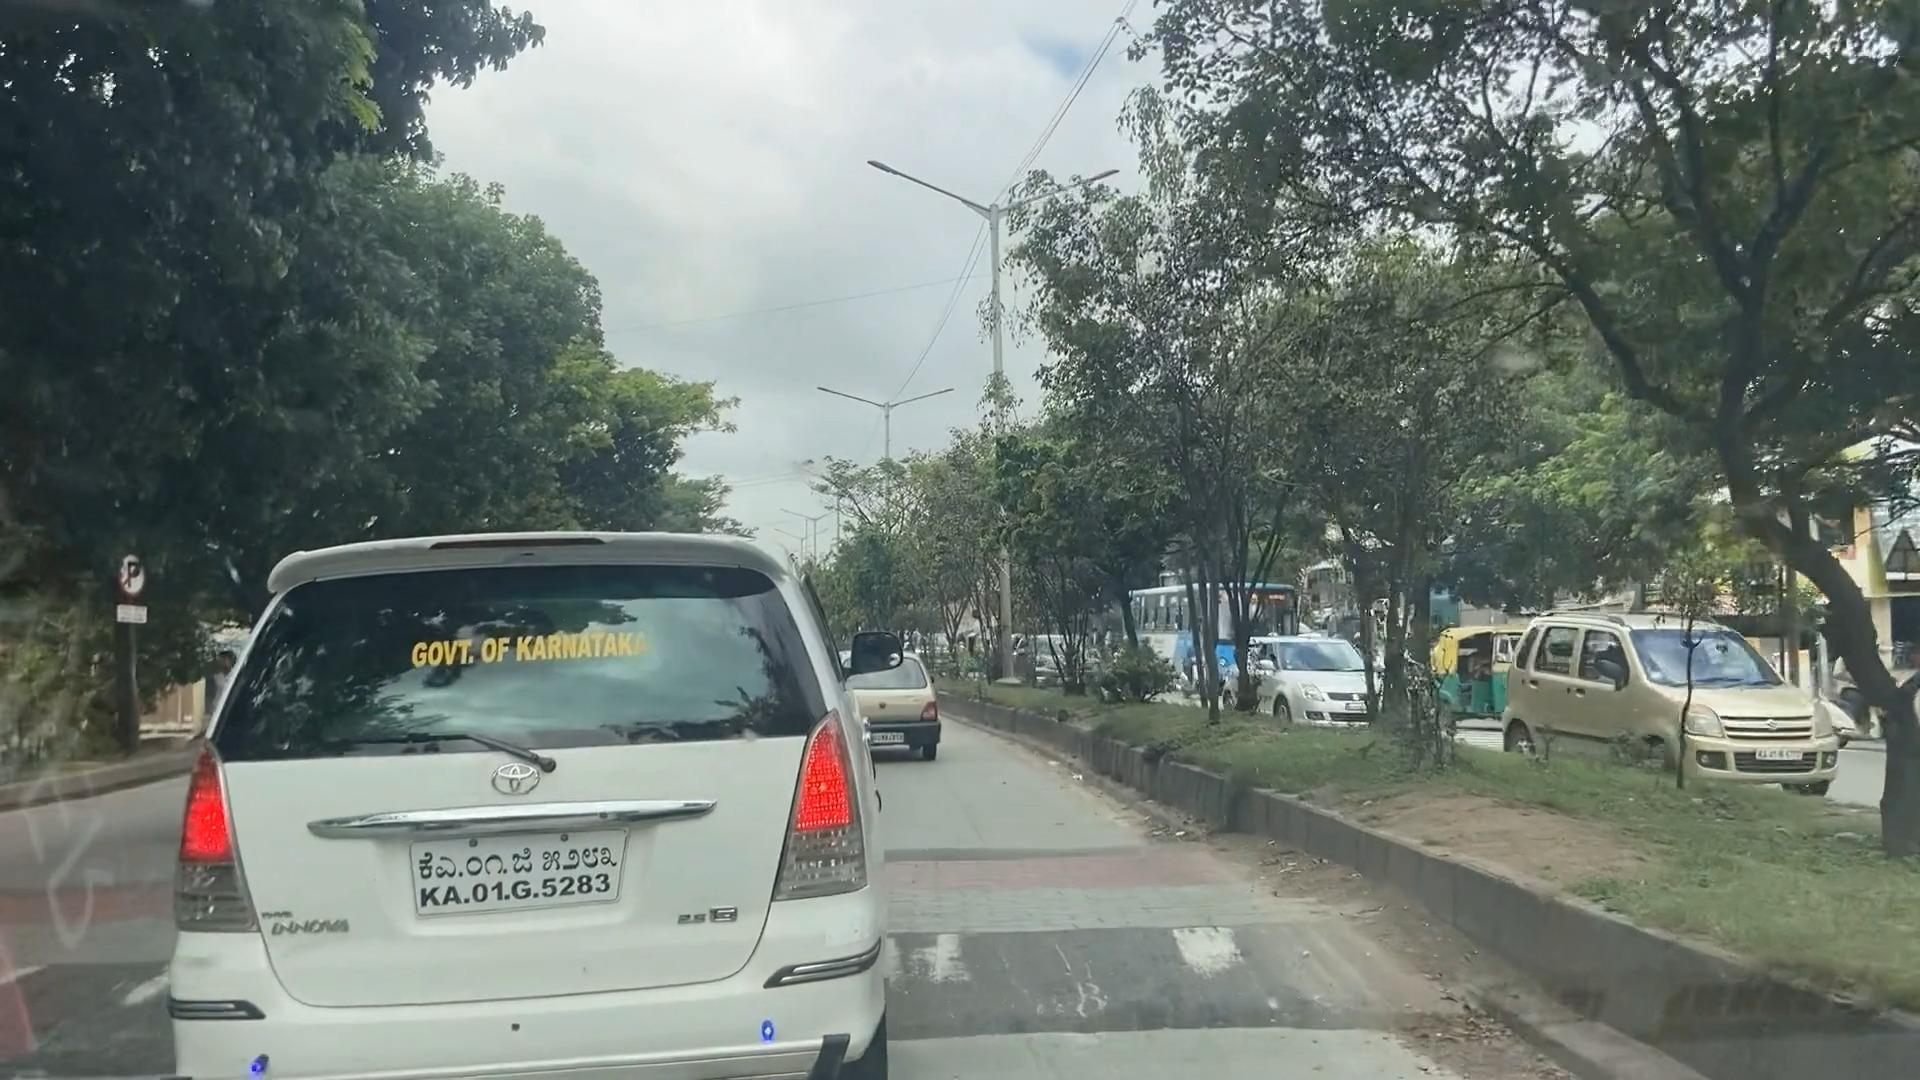LMV: (1498, 562, 1861, 811)
